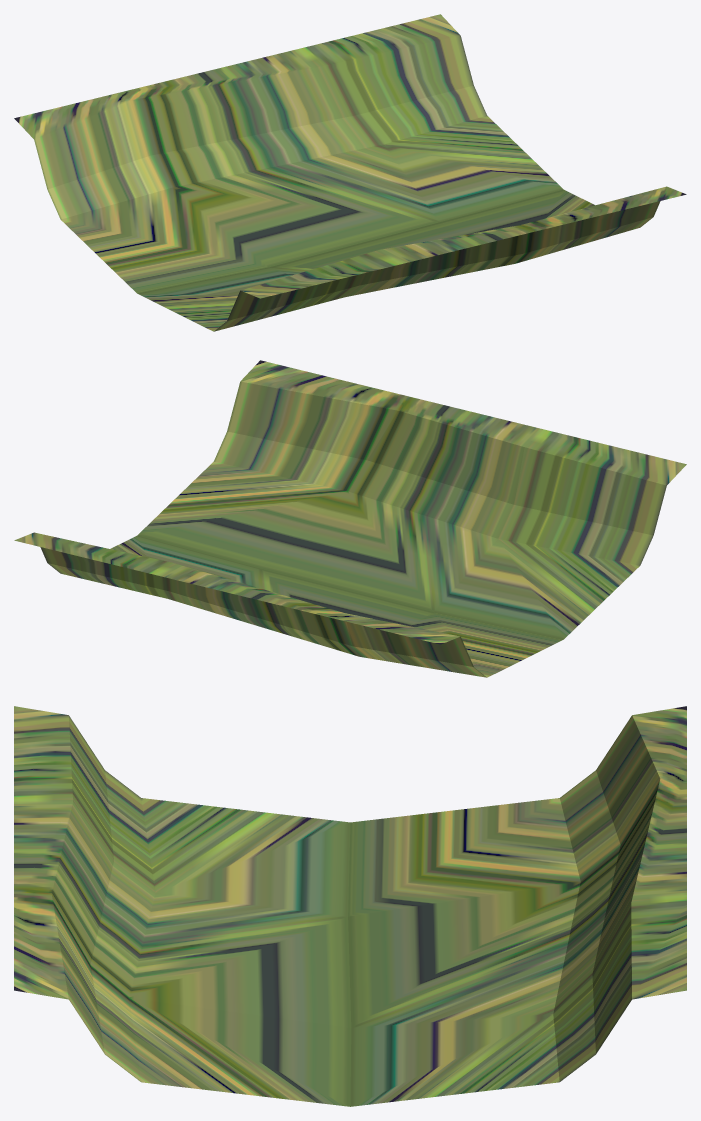
The model's file is Mesh_WaterTileRiverMiddle.fbx.
3 views of the same model, one above another, from view 1: azimuth 30°, elevation 25°; view 2: azimuth 150°, elevation 25°; view 3: azimuth 270°, elevation 25° (orthographic). The views are drawn at different scales.
Parts seen in each view (by area): view 1: WaterTileRiverMiddle; view 2: WaterTileRiverMiddle; view 3: WaterTileRiverMiddle.
Boxes of the visible parts, <box> form: WaterTileRiverMiddle: <box>14,14,686,331</box>; WaterTileRiverMiddle: <box>14,360,686,677</box>; WaterTileRiverMiddle: <box>14,706,686,1106</box>.
Bounding box in the file's own units: 10000 × 2020 × 10000.
